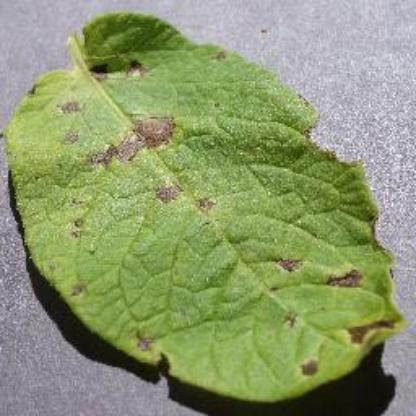Early-Blight: (7, 7, 415, 405)
